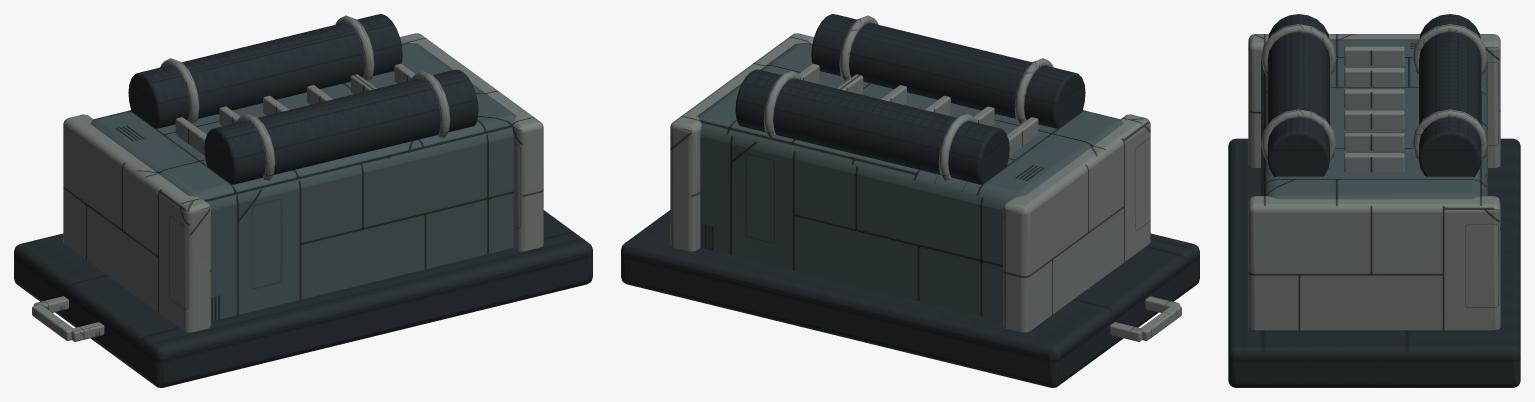
The model's file is hundred_hand_power.glb.
The picture shows the model from 3 angles, left to right: view 1: azimuth 30°, elevation 25°; view 2: azimuth 150°, elevation 25°; view 3: azimuth 270°, elevation 25°; orthographic projection.
Parts seen in each view (by area): view 1: LOD0_Mechanical, LOD0_Hull, LOD0_BrushedMetal; view 2: LOD0_Mechanical, LOD0_Hull, LOD0_BrushedMetal; view 3: LOD0_BrushedMetal, LOD0_Mechanical, LOD0_Hull.
Boxes of the visible parts, box(x1,y1,x2,y2) form: LOD0_Mechanical: box(14, 14, 592, 387); LOD0_Hull: box(90, 42, 516, 321); LOD0_BrushedMetal: box(32, 15, 543, 341); LOD0_Mechanical: box(621, 14, 1199, 387); LOD0_Hull: box(697, 42, 1123, 321); LOD0_BrushedMetal: box(670, 15, 1181, 341); LOD0_BrushedMetal: box(1248, 24, 1500, 330); LOD0_Mechanical: box(1228, 14, 1520, 387); LOD0_Hull: box(1261, 39, 1487, 199).
Size of what is drawn, in the model's own units: 10.81 by 4.75 by 5.8.
3 materials, 3 textured.
